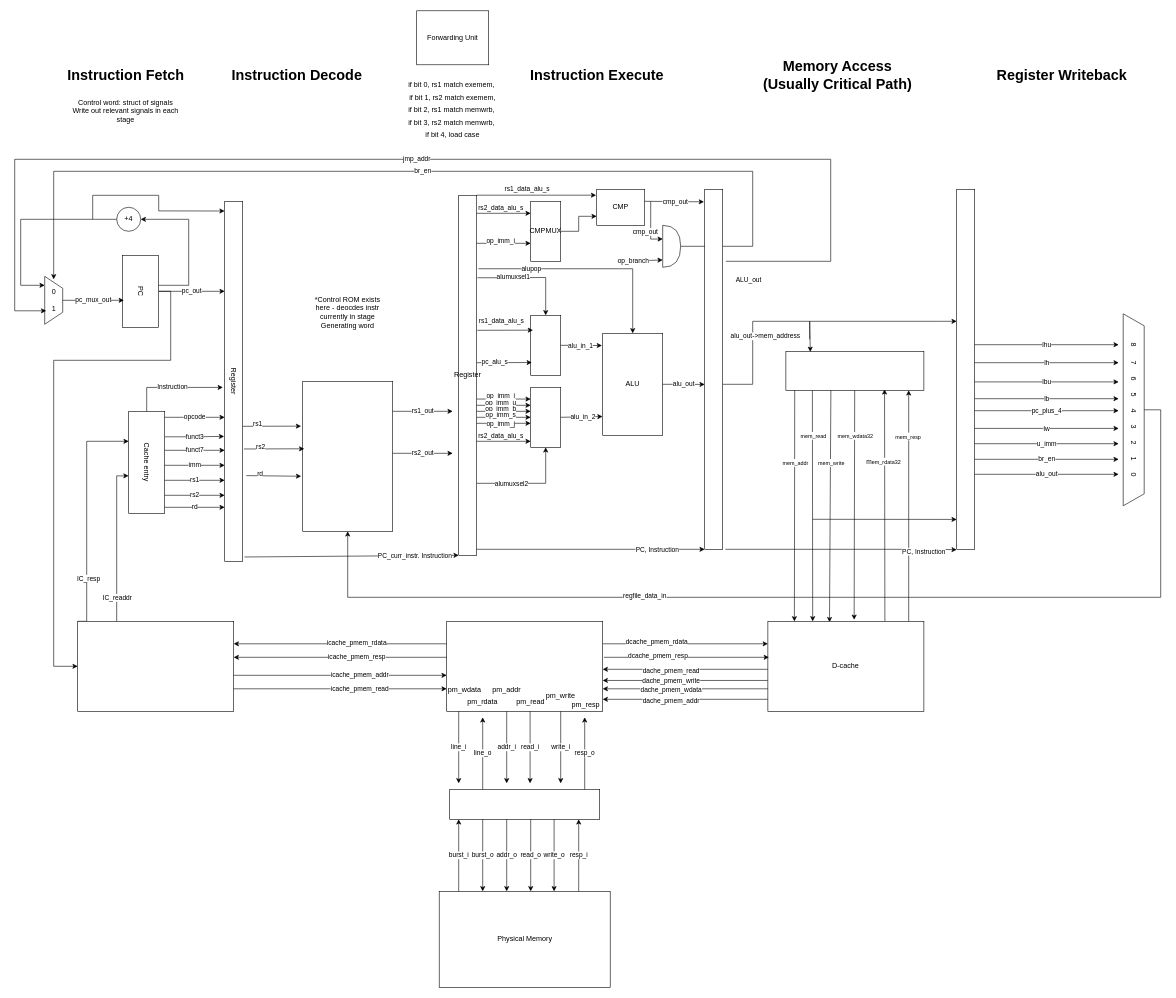
Some shapes in this 1176 by 998 pixel diagram are drawn without their labels. Here are the shapes that lost their labels. From the top down, the box of each, then its label:
(530, 315, 561, 375): alumux1
(785, 351, 924, 390): Data Memory (D-cache)
(530, 387, 561, 447): alumux2
(302, 381, 393, 531): Regfile
(77, 621, 234, 711): I-cache
(446, 621, 603, 711): Arbiter
(449, 789, 600, 819): Cacheline Adaptor
